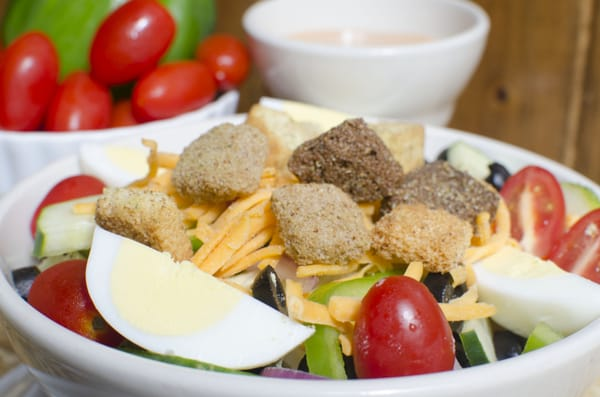steak: (0, 1, 243, 134)
sushi: (1, 139, 505, 392), (240, 1, 491, 127)
